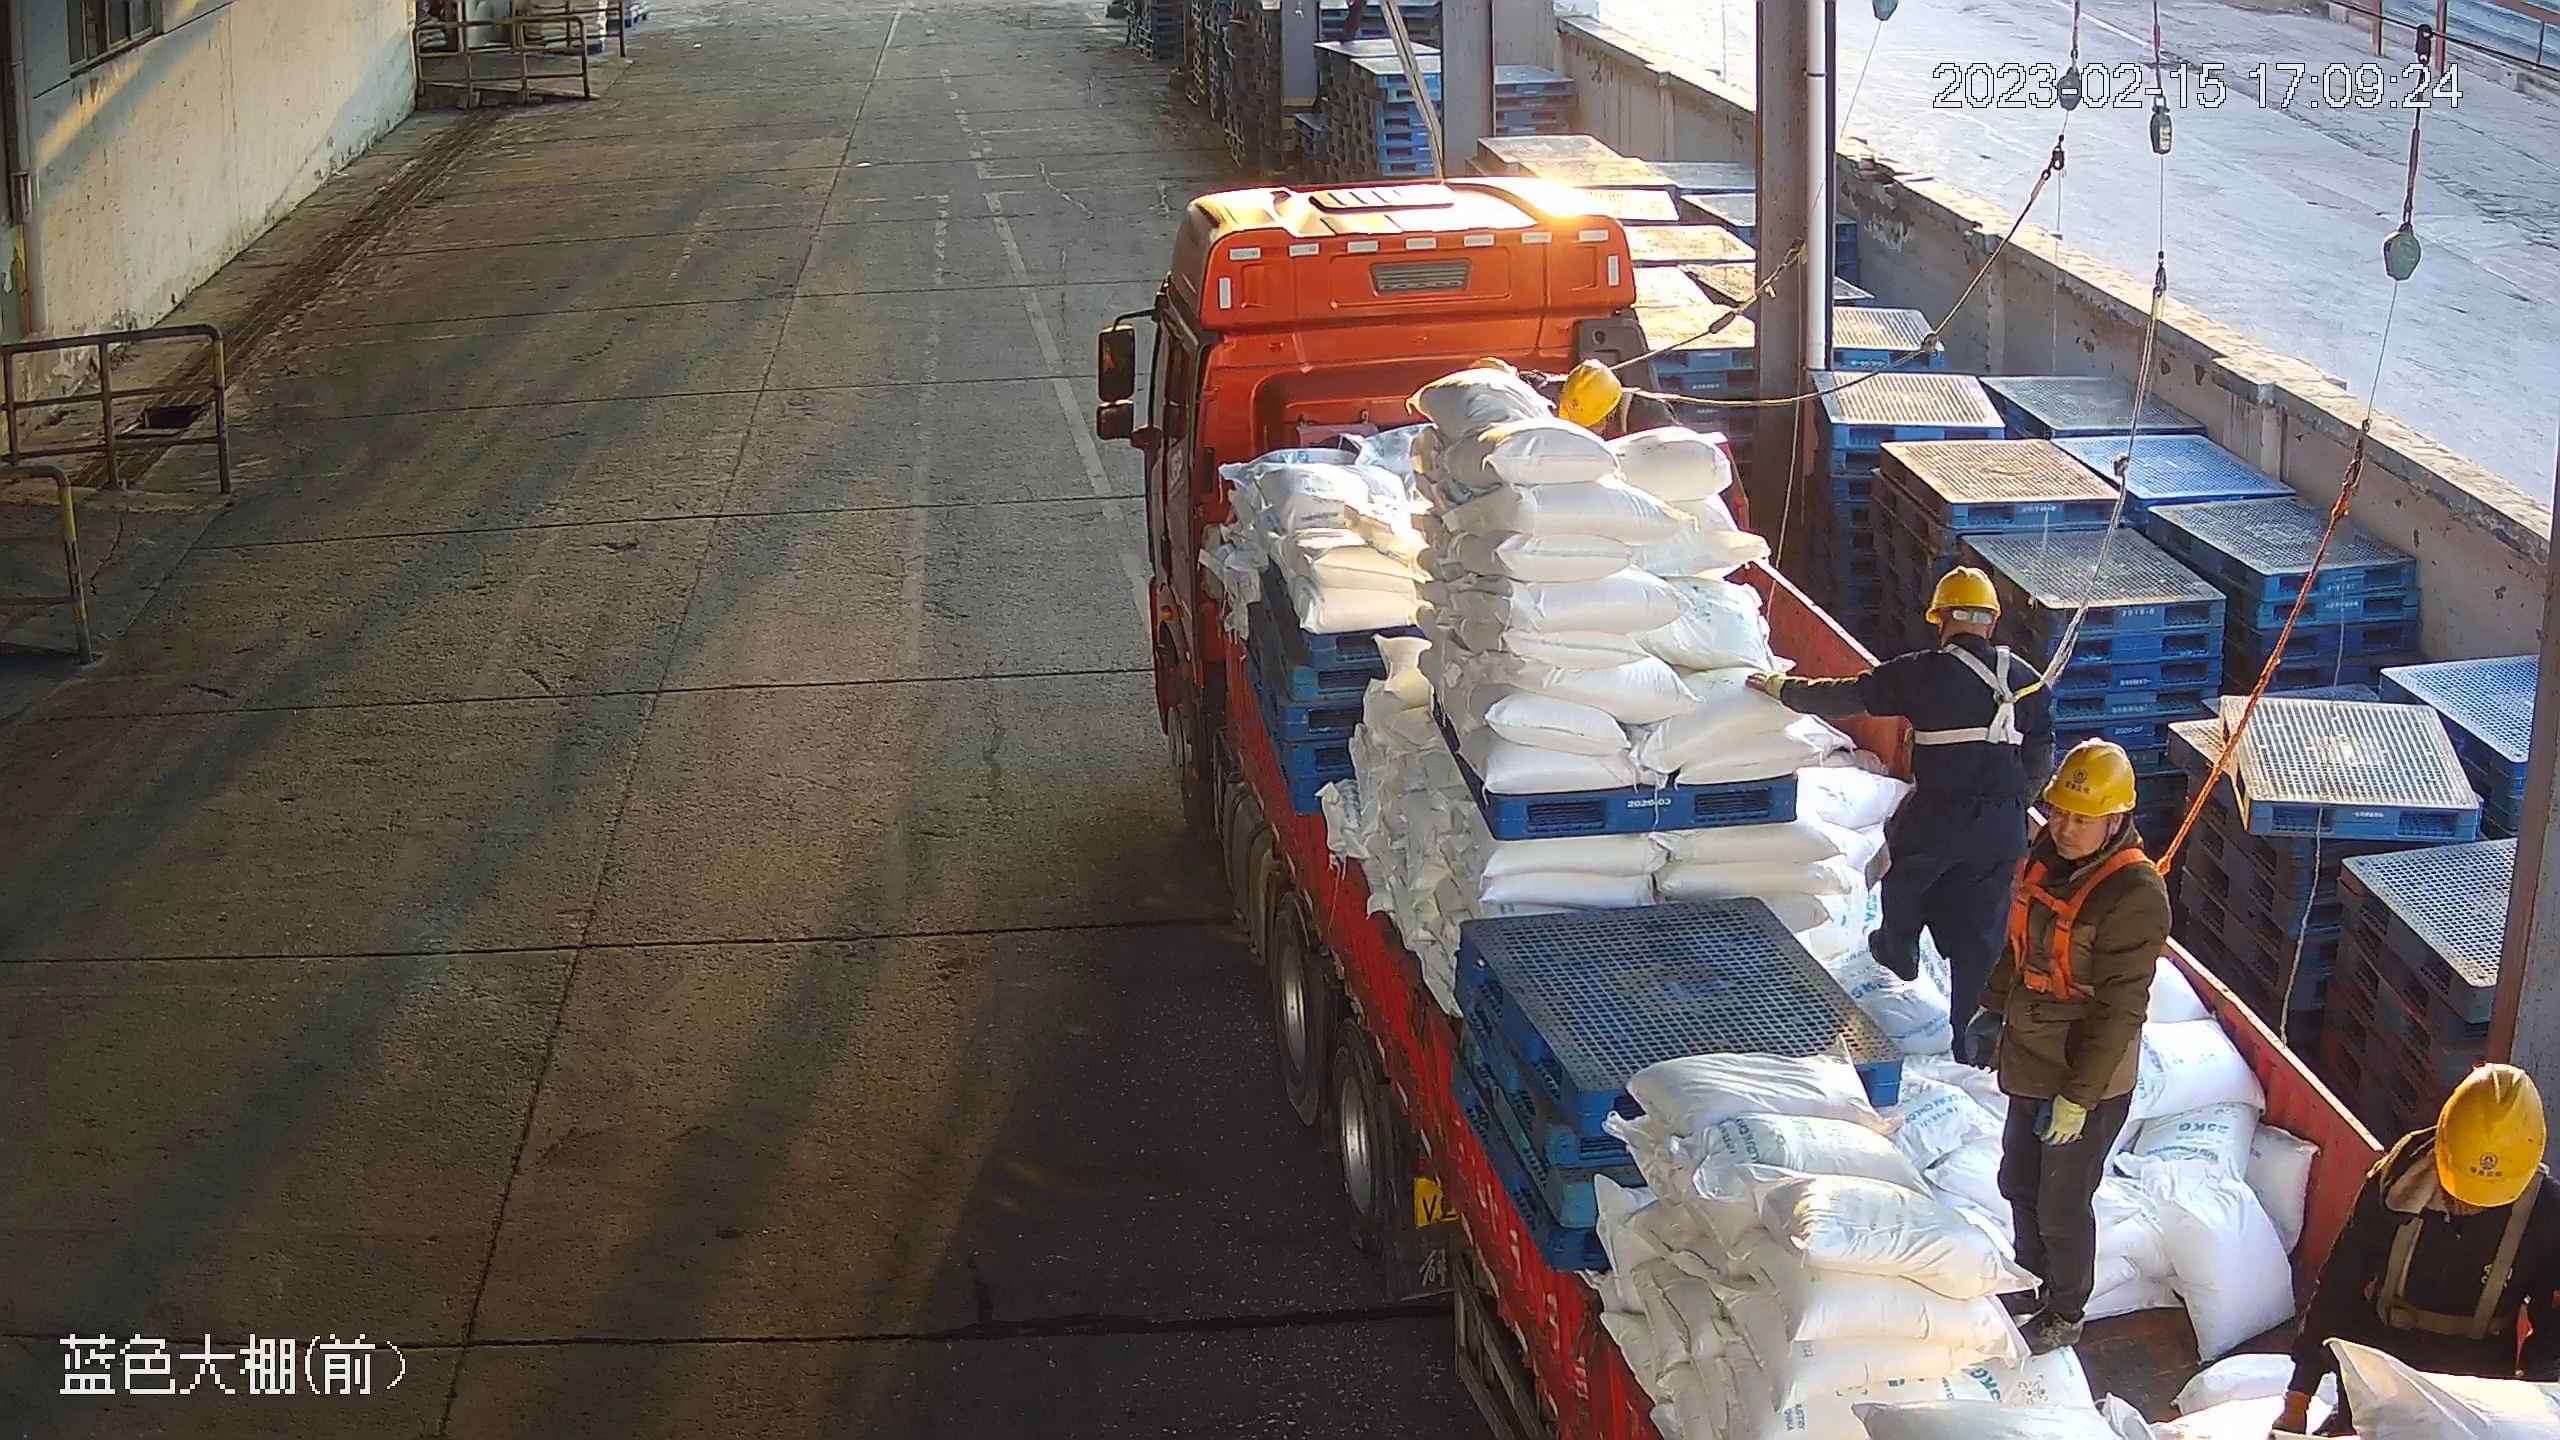belt: (2372, 1198, 2528, 1329), (2007, 857, 2137, 993), (1913, 651, 2050, 757)
head: (2367, 1055, 2556, 1243), (2013, 739, 2162, 909), (1892, 560, 2041, 711)
helmet: (2427, 1060, 2549, 1209), (2048, 736, 2139, 820), (1556, 357, 1627, 429), (1918, 564, 2000, 625)
people: (1751, 562, 2044, 1062), (2006, 741, 2176, 1362)
truck: (1093, 183, 2560, 1440)
